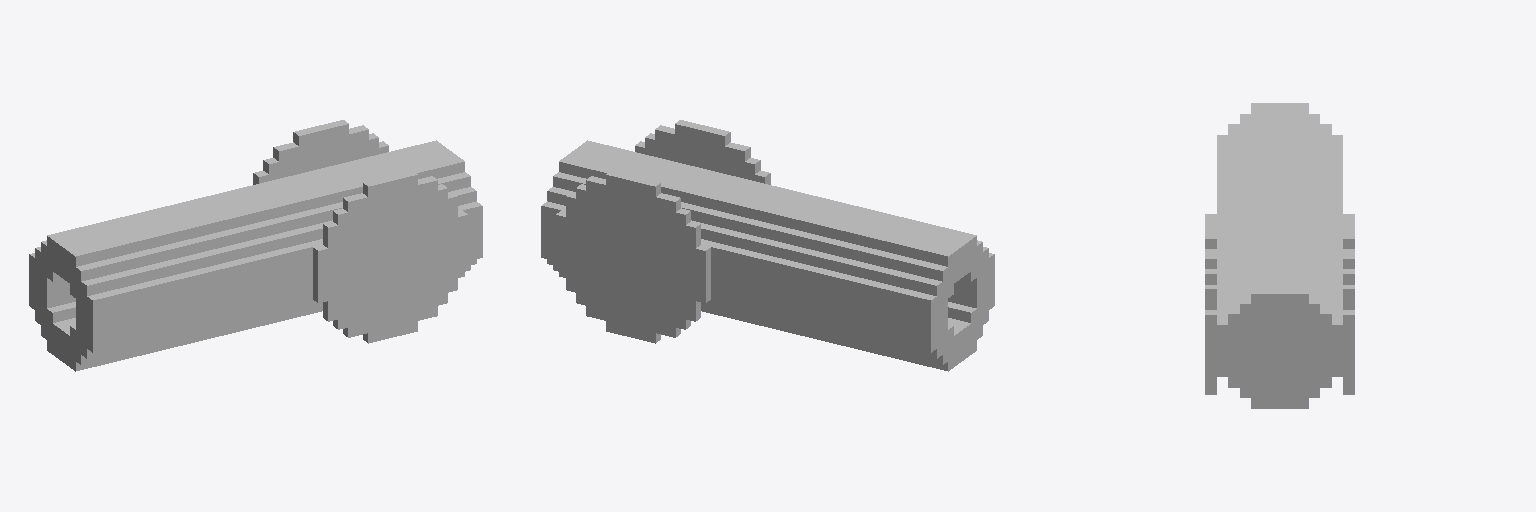
The model's file is cannon.obj.
The picture shows the model from 3 angles: view 1: azimuth 30°, elevation 25°; view 2: azimuth 150°, elevation 25°; view 3: azimuth 270°, elevation 25°; orthographic projection.
Visible parts, largest first — view 1: object 1; view 2: object 1; view 3: object 1.
Part boxes in pixels (x1,y1,x2,y2): object 1: (29, 120, 482, 371); object 1: (541, 120, 994, 371); object 1: (1205, 103, 1354, 408).
Size of the model in its own units: 3.9 by 1.5 by 1.3.